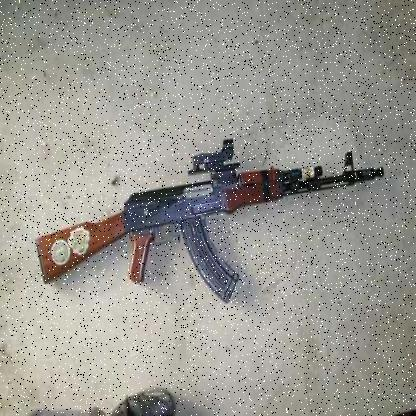rifle: (21, 105, 397, 312)
